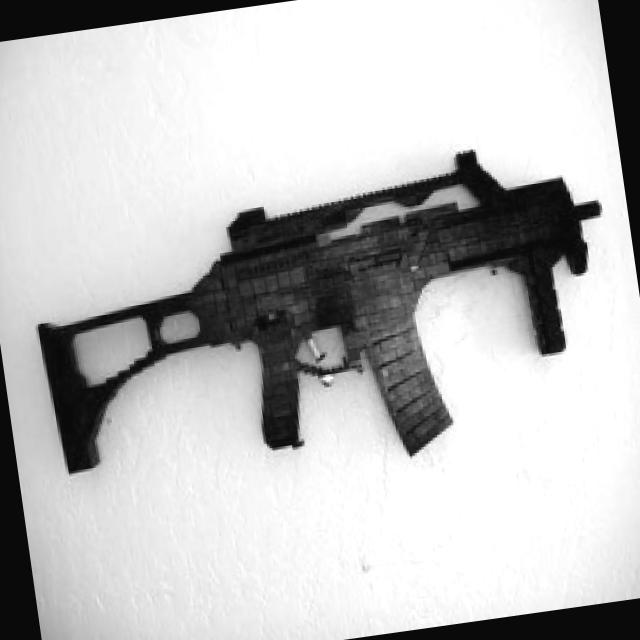long weapon: (3, 119, 639, 515)
